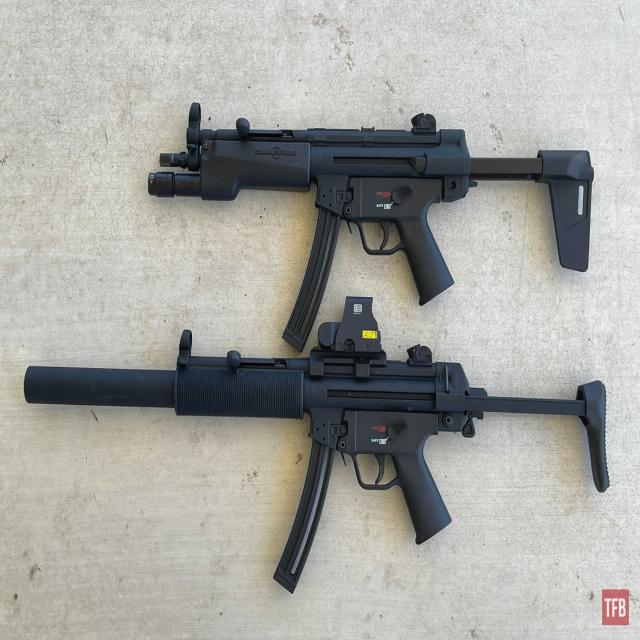SMG: (24, 299, 608, 594), (148, 105, 594, 354)
